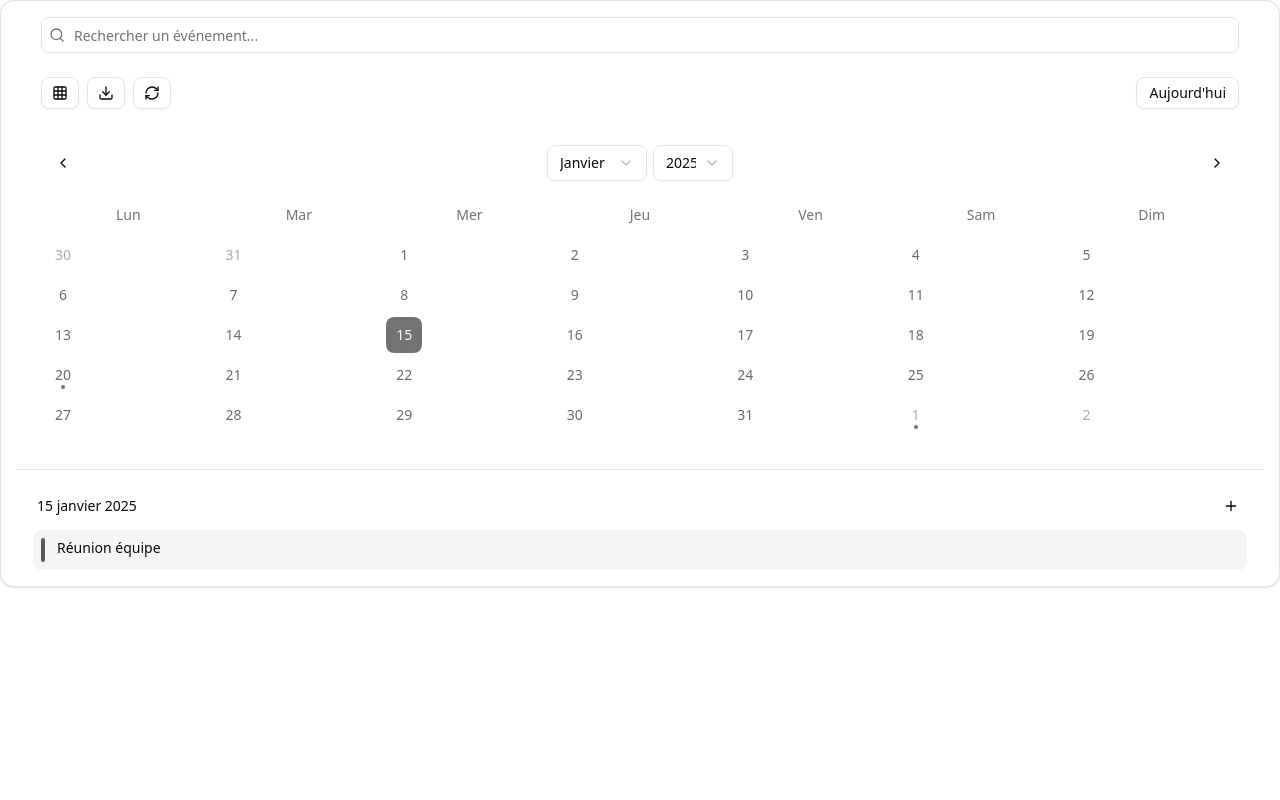
it: CalendarWidget - Recherche d'événements › filtre les événements par titre
The width and height of the screenshot is (1280, 800).
Step 1. Type "Réunion" into the field with placeholder "Rechercher un événement..." → {"x": 640, "y": 35}, box [41,17,1239,53]
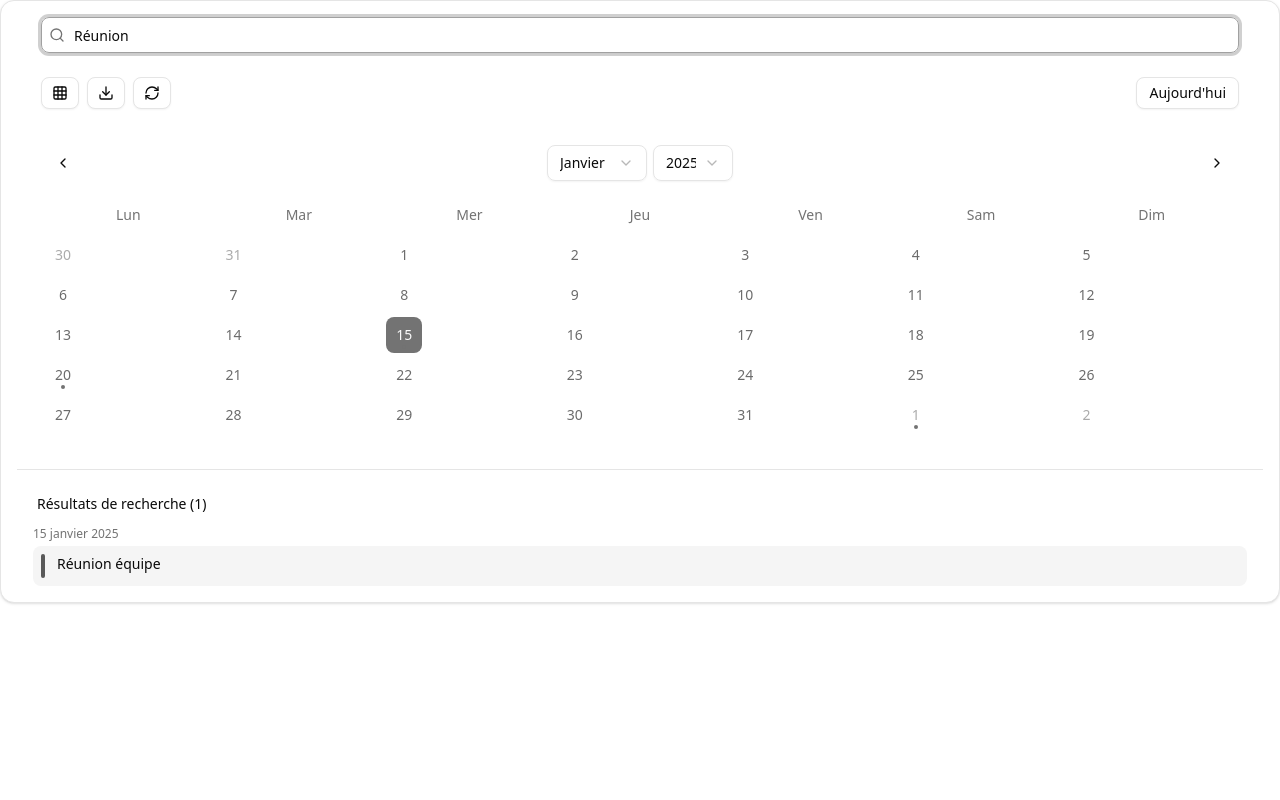
Expected: the text "Réunion équipe" is shown, [57,554,161,573]
Now the text "Résultats de recherche (1)" is shown, box [37,494,206,514]
